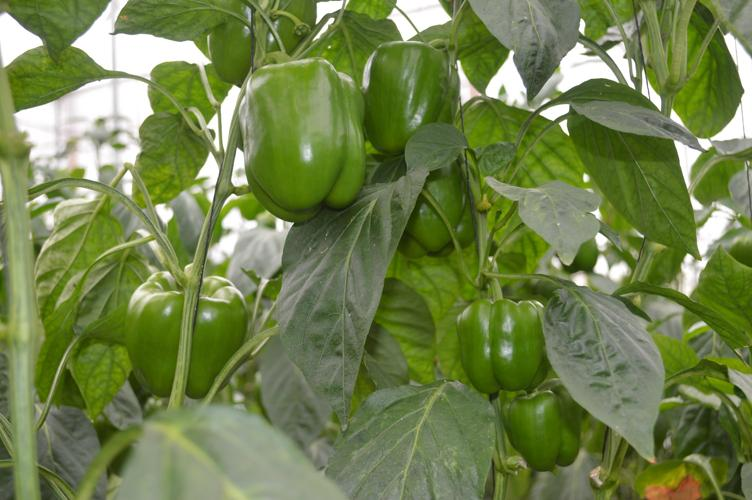BellPepper: (235, 58, 370, 219), (116, 262, 257, 405), (361, 36, 467, 154), (447, 293, 559, 396), (378, 158, 482, 266), (489, 382, 590, 481)
